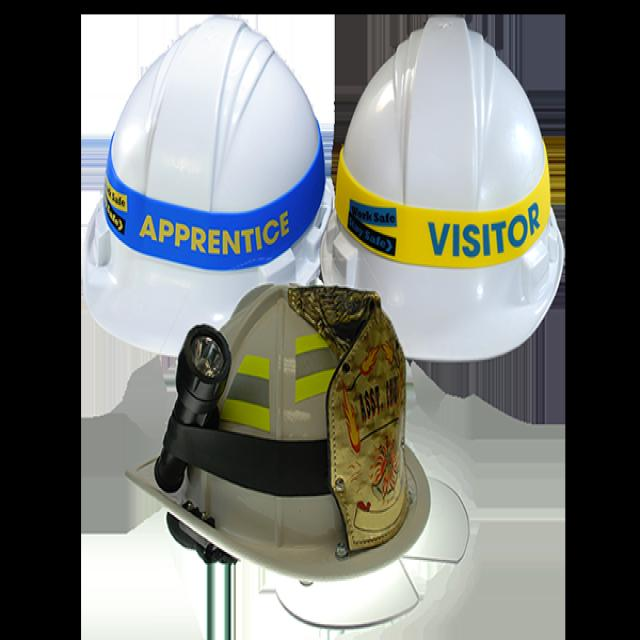helmet: (111, 264, 476, 638), (325, 4, 569, 369), (74, 8, 326, 360)
